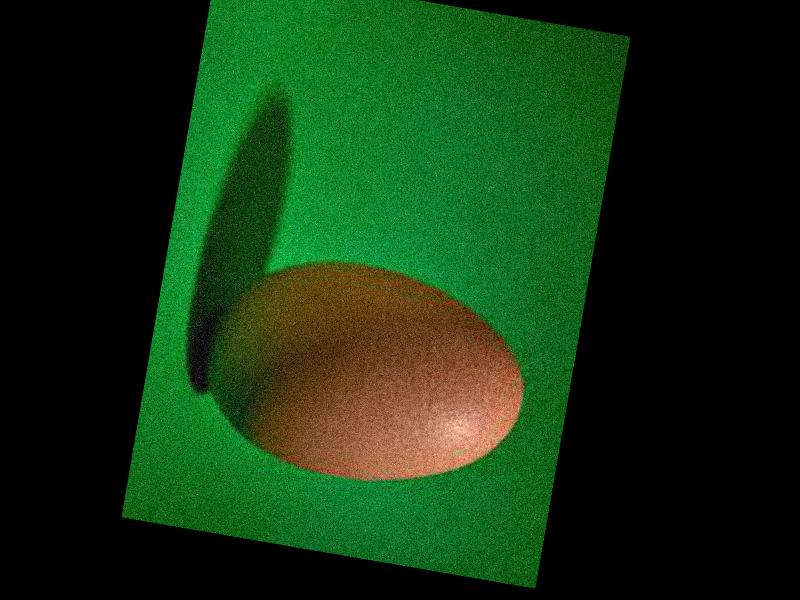Eggs: (188, 241, 538, 506)
